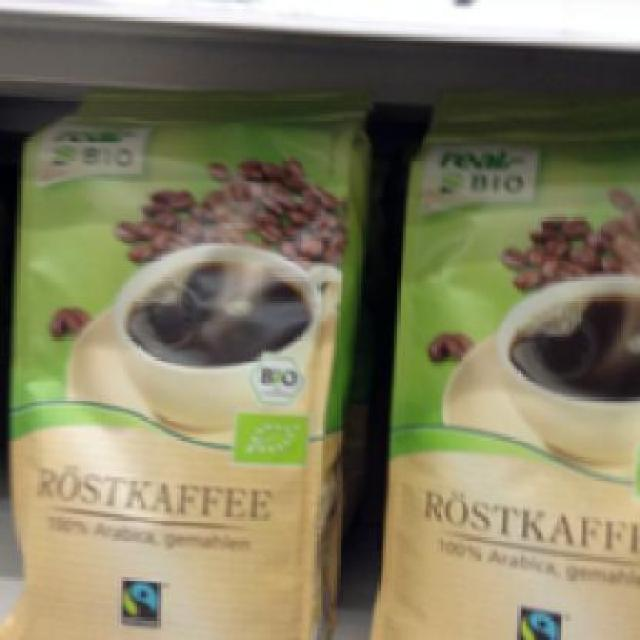Coffee: (6, 82, 374, 638), (354, 86, 637, 634)
